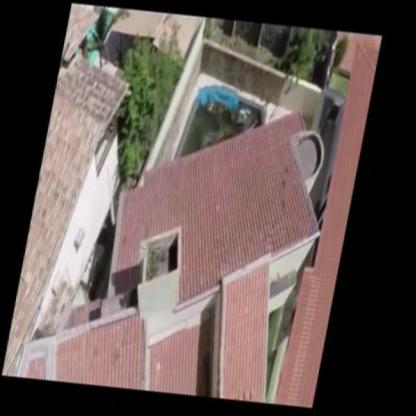agua: (194, 95, 256, 134)
